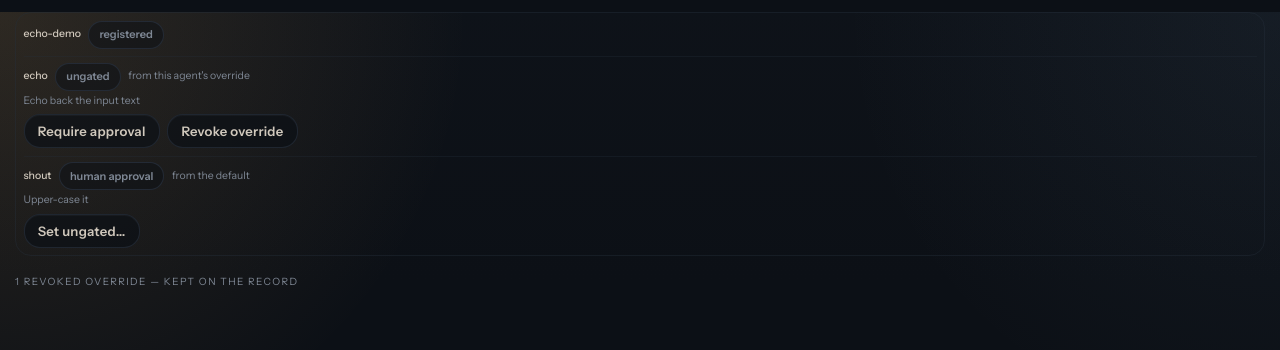
Test: AgentMcpPanel › shows a server refusal inline
Click the button with aria-label "Revoke override on echo": coordinates (232, 131) [167, 114, 298, 148]
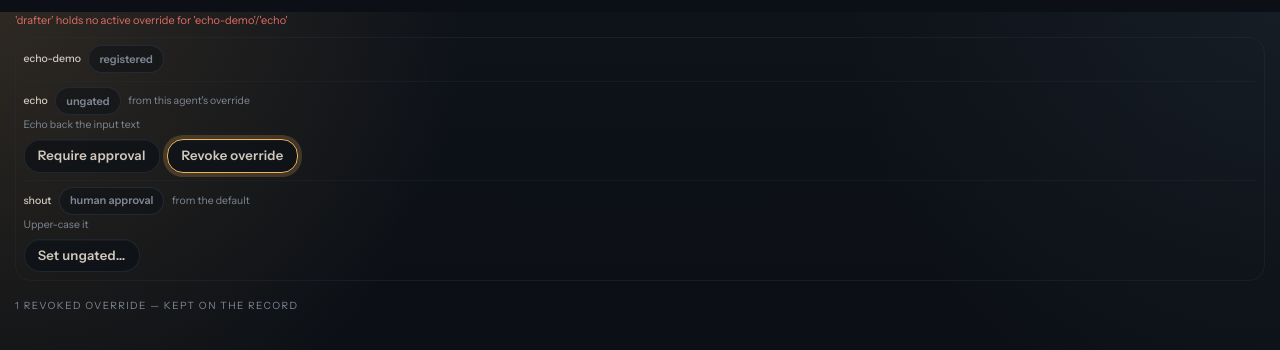
Now the message shows "holds no active override", box [15, 13, 288, 27]
